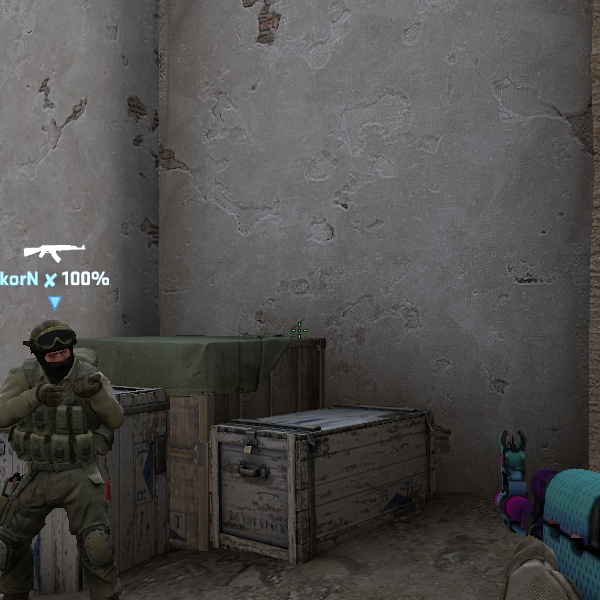ct_body: (0, 309, 134, 600)
ct_head: (21, 318, 89, 382)
